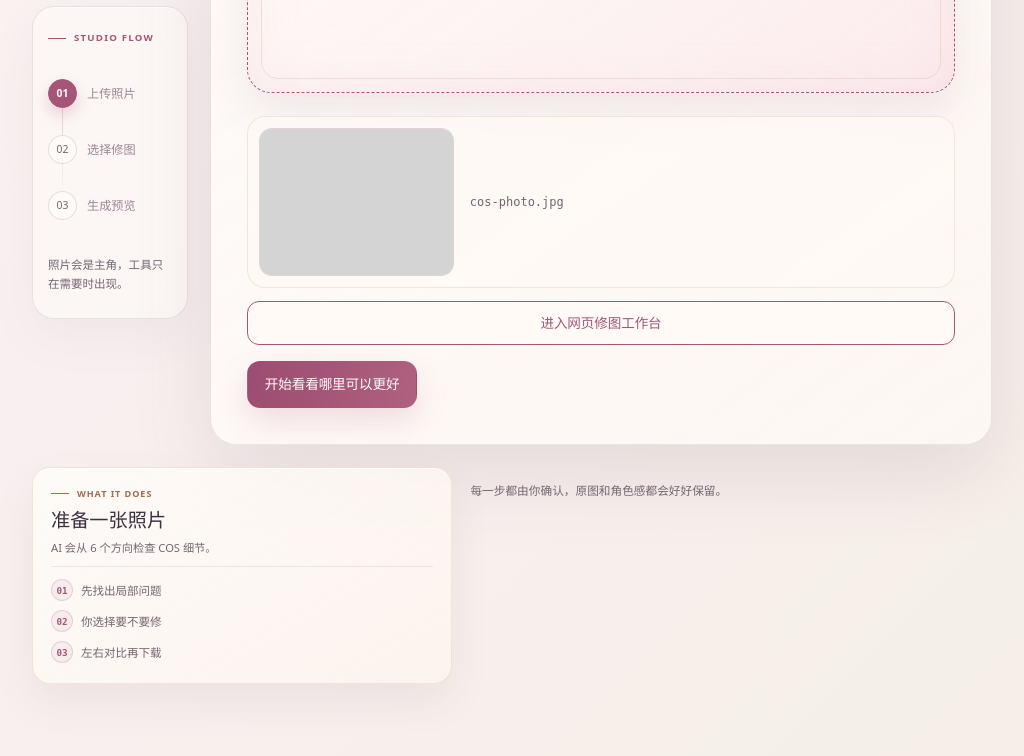
Test case: COS retouch app › returns to the invite gate when the API rejects the invite
The image size is (1024, 756).
Earlier steps of the test are not shown.
(page scrolled)
Click the button "开始看看哪里可以更好" at x=332, y=384, box [247, 361, 417, 408]
(page scrolled)
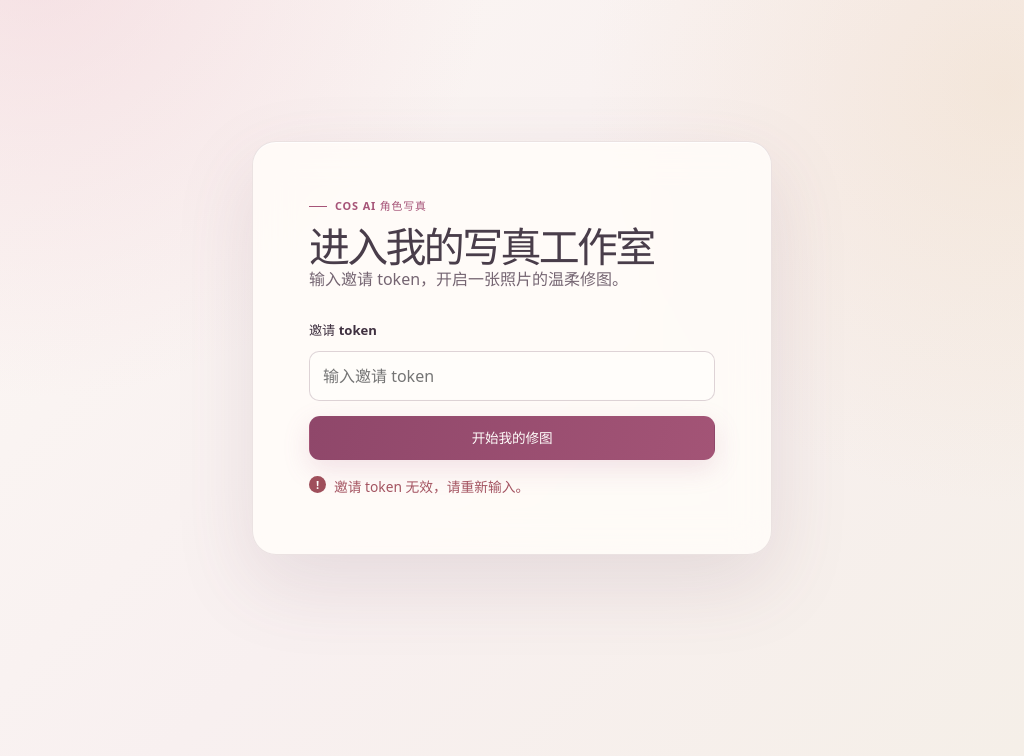
Now the heading "进入我的写真工作室" is shown, box [309, 218, 654, 274]
Now the message reads "邀请 token 无效，请重新输入。", box [334, 477, 529, 496]
Now the password field labelled "邀请 token" is shown, box [309, 351, 715, 401]
